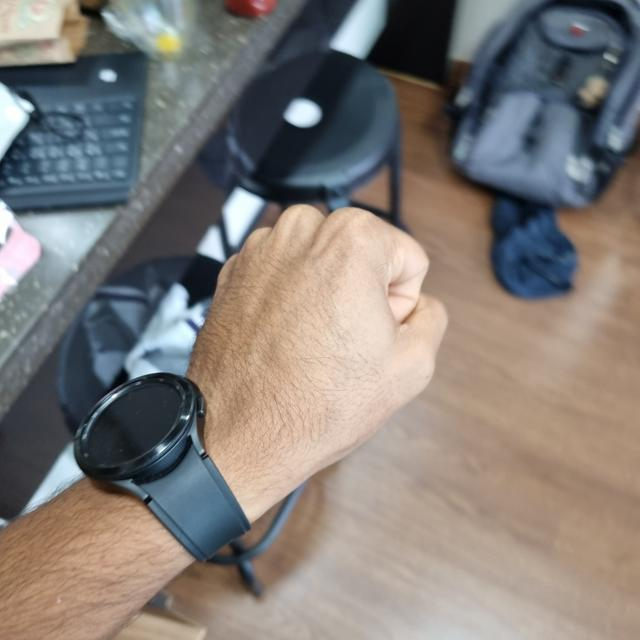Rock: (191, 210, 444, 487)
